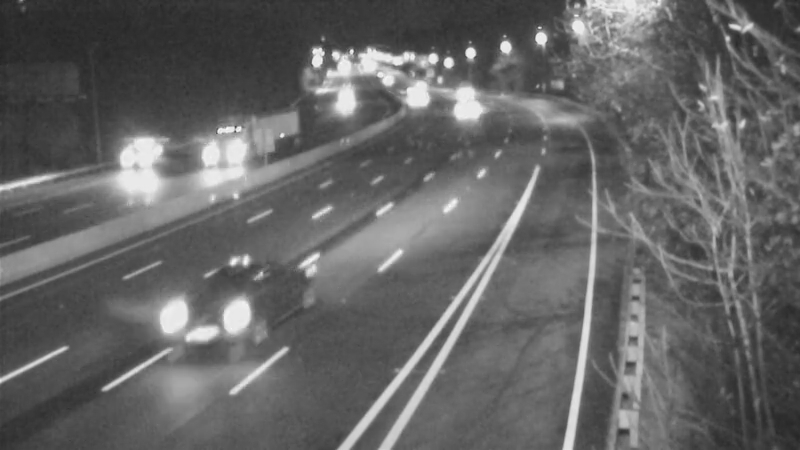vehicle: (146, 260, 256, 370), (97, 113, 177, 193), (184, 111, 264, 191), (358, 54, 408, 104), (440, 67, 490, 117), (389, 73, 439, 123), (438, 87, 488, 137), (321, 72, 371, 122)
